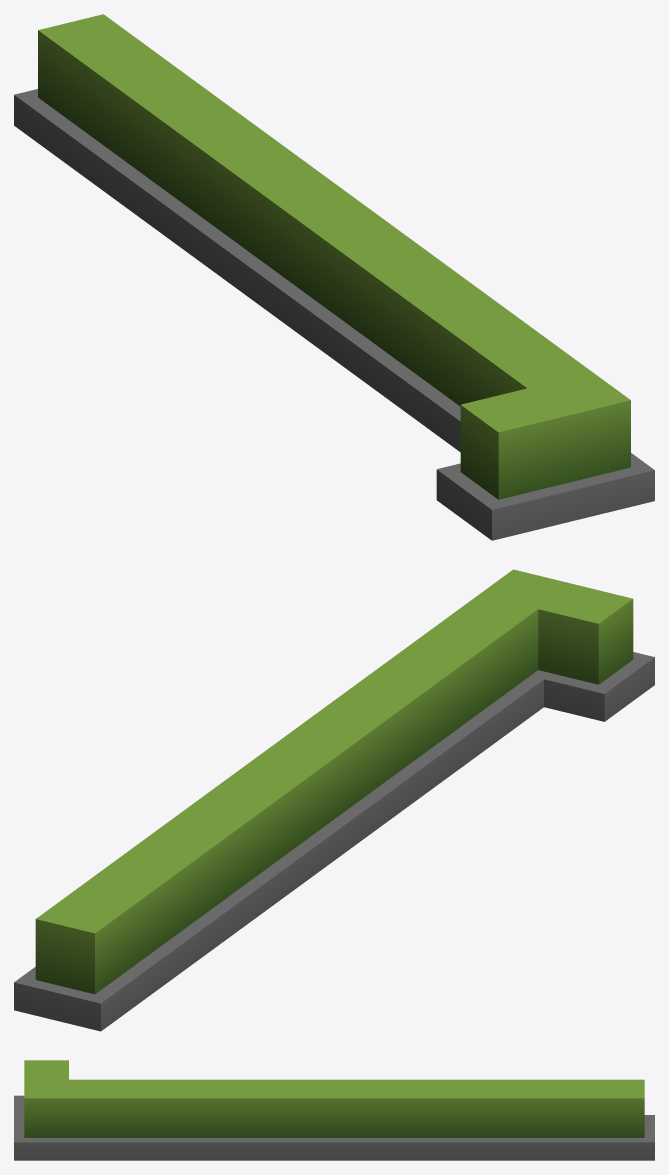
Rendered from fence with grass.fbx.
The picture shows the model from 3 angles, top to bottom: view 1: azimuth 30°, elevation 25°; view 2: azimuth 150°, elevation 25°; view 3: azimuth 270°, elevation 25°; orthographic projection. The views are drawn at different scales.
Parts seen in each view (by area): view 1: fence_with_grass; view 2: fence_with_grass; view 3: fence_with_grass.
Part boxes in pixels (bbox=[...]): fence_with_grass: bbox=[14, 14, 654, 540]; fence_with_grass: bbox=[14, 569, 654, 1031]; fence_with_grass: bbox=[14, 1060, 654, 1160].
Size of the model in its own units: 339 by 195 by 1966.
1 material, 1 textured.
